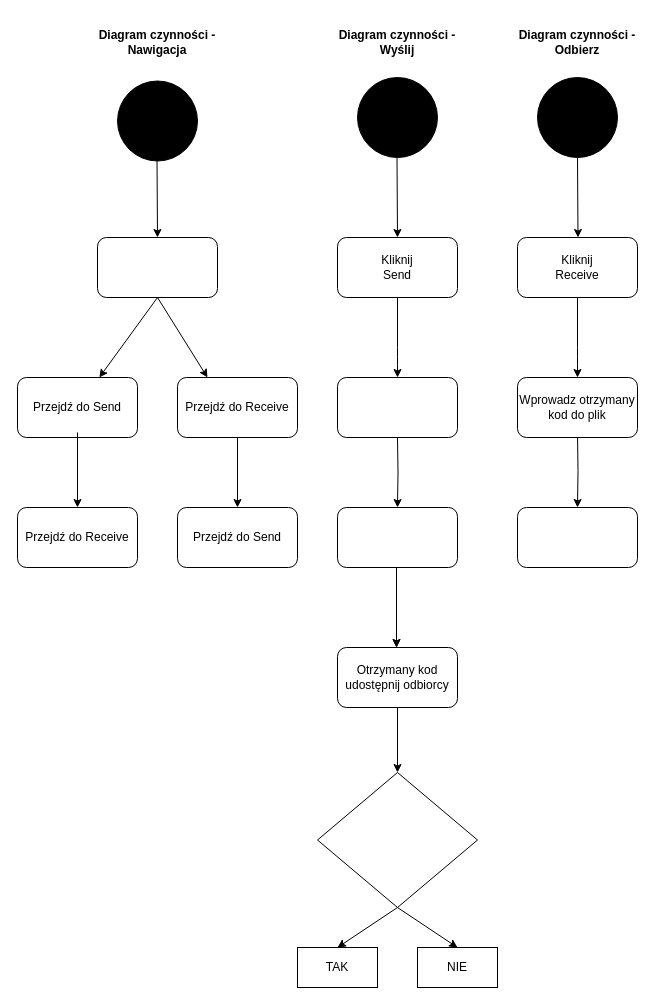
This 665x1005 diagram has some shape labels left out. Here are the shapes that lost their labels. From the top down, the box of each, then its label:
(96, 236, 218, 298): Wejdź na strone głowną
(336, 376, 458, 438): Kliknij w ikone, lub upuść plik w wyznaczonym miejscu
(336, 506, 458, 568): Kliknij Upload
(516, 506, 638, 568): Pobierz zdjęcie po kliknieciu w nie
(316, 772, 478, 908): Czy chcesz wyłać następny plik?
